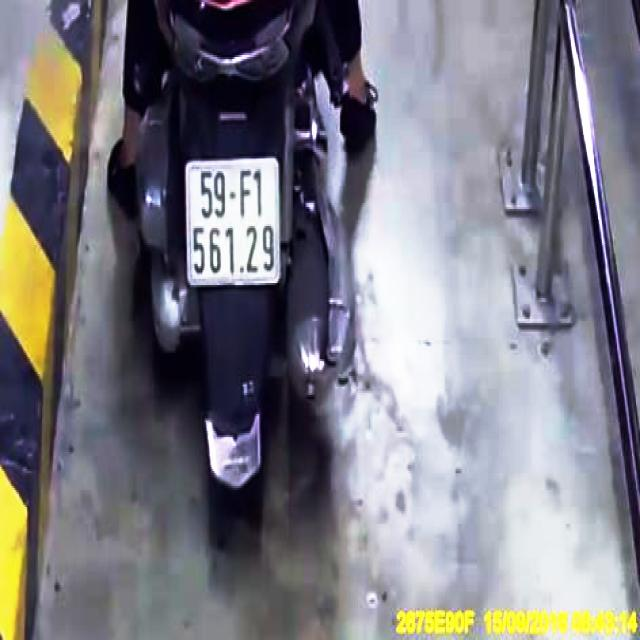license_plate: (190, 160, 279, 287)
